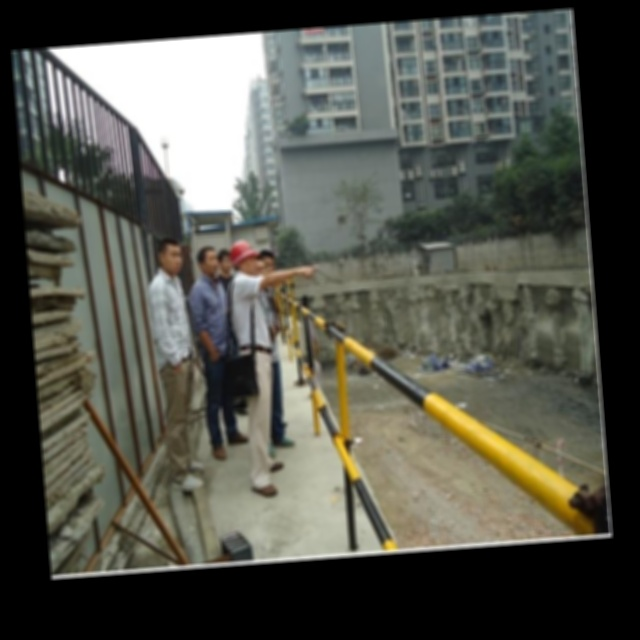Con_Casco: (228, 238, 260, 275)
Sin_Casco_Mascarrilla: (155, 234, 186, 278)
